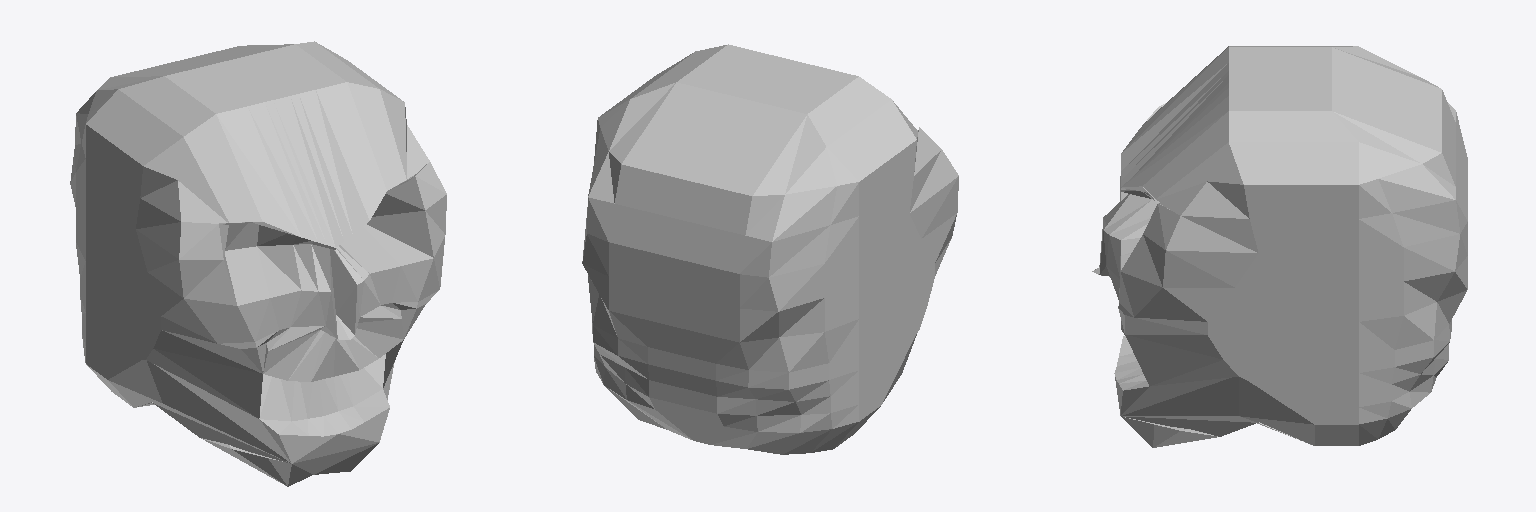
The model's file is Lowpolyskull.obj.
3 renders of one model, left to right at view 1: azimuth 30°, elevation 25°; view 2: azimuth 150°, elevation 25°; view 3: azimuth 270°, elevation 25°, orthographic.
Visible parts, largest first — view 1: Cube_Cube.003; view 2: Cube_Cube.003; view 3: Cube_Cube.003.
Part boxes in pixels (bbox=[...]): Cube_Cube.003: bbox=[70, 41, 446, 486]; Cube_Cube.003: bbox=[582, 44, 958, 454]; Cube_Cube.003: bbox=[1092, 46, 1467, 447].
Bounding box in the file's own units: 2.05 × 2.58 × 2.48.